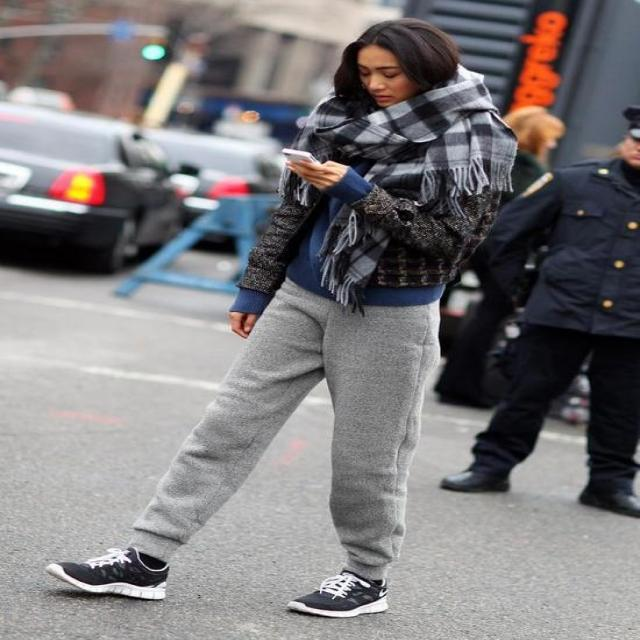pants: (132, 277, 442, 580)
